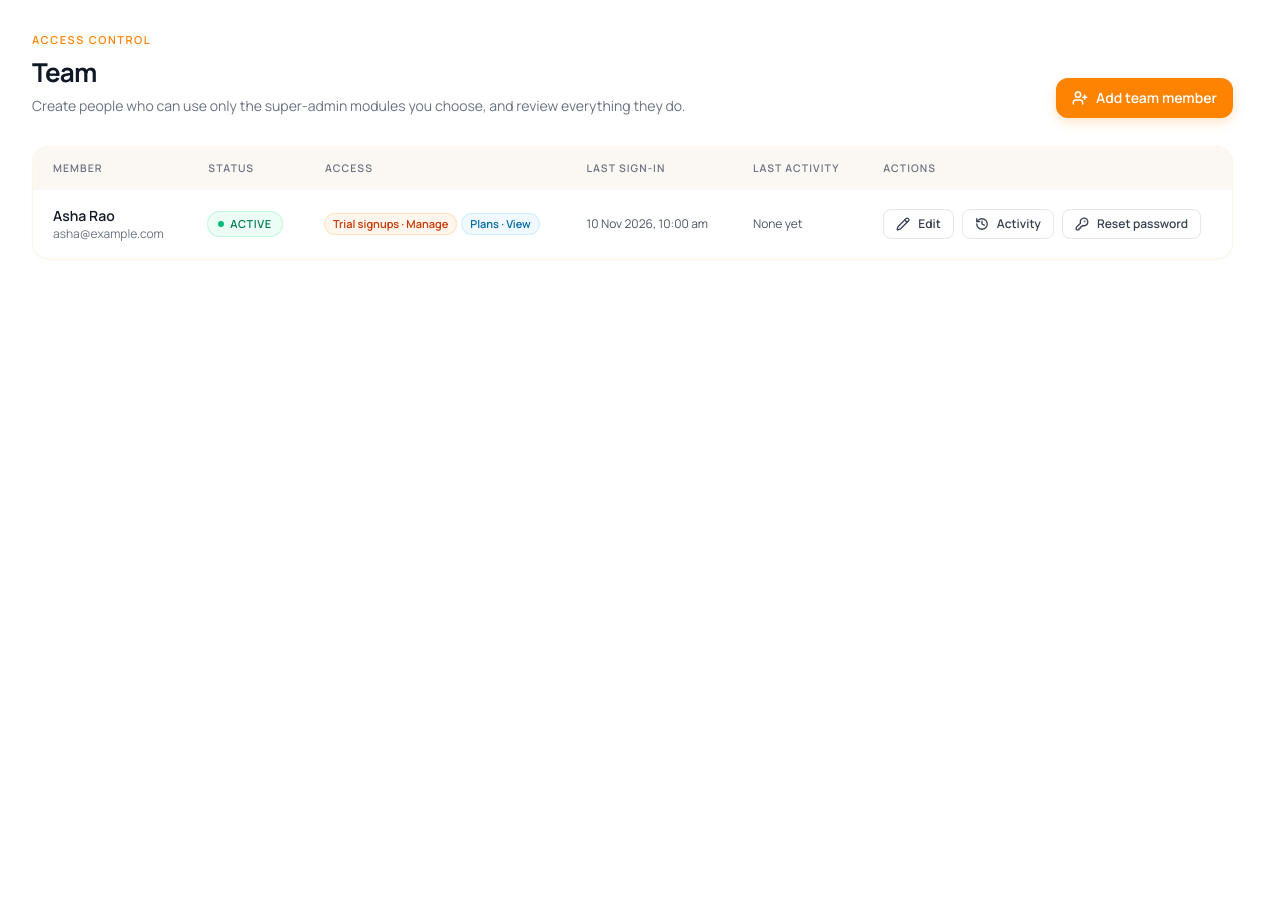
Activity drawer › describes rows, highlights denied attempts and expands details
The width and height of the screenshot is (1280, 900).
Click the button with aria-label "Activity for Asha Rao". click: click(1008, 224)
box: [962,209,1054,239]
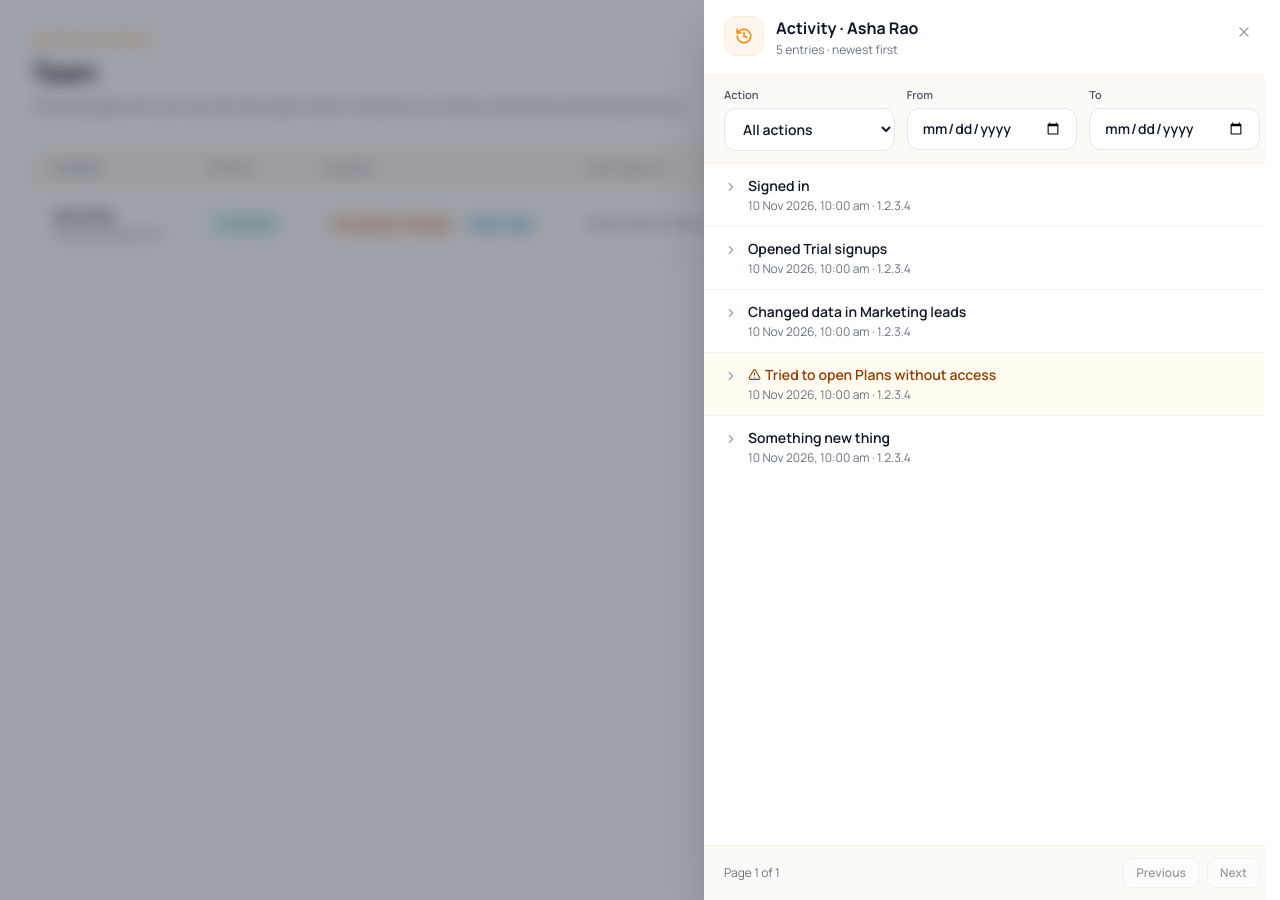
Check: the text "Signed in" is shown, box [748,176,810,194]
Check: the text "Opened Trial signups" is shown, box [748,238,887,258]
Check: the text "Changed data in Marketing leads" is shown, box [748,302,966,320]
Click the text "Tried to open Plans without access". click: click(872, 374)
box: [748,364,996,384]
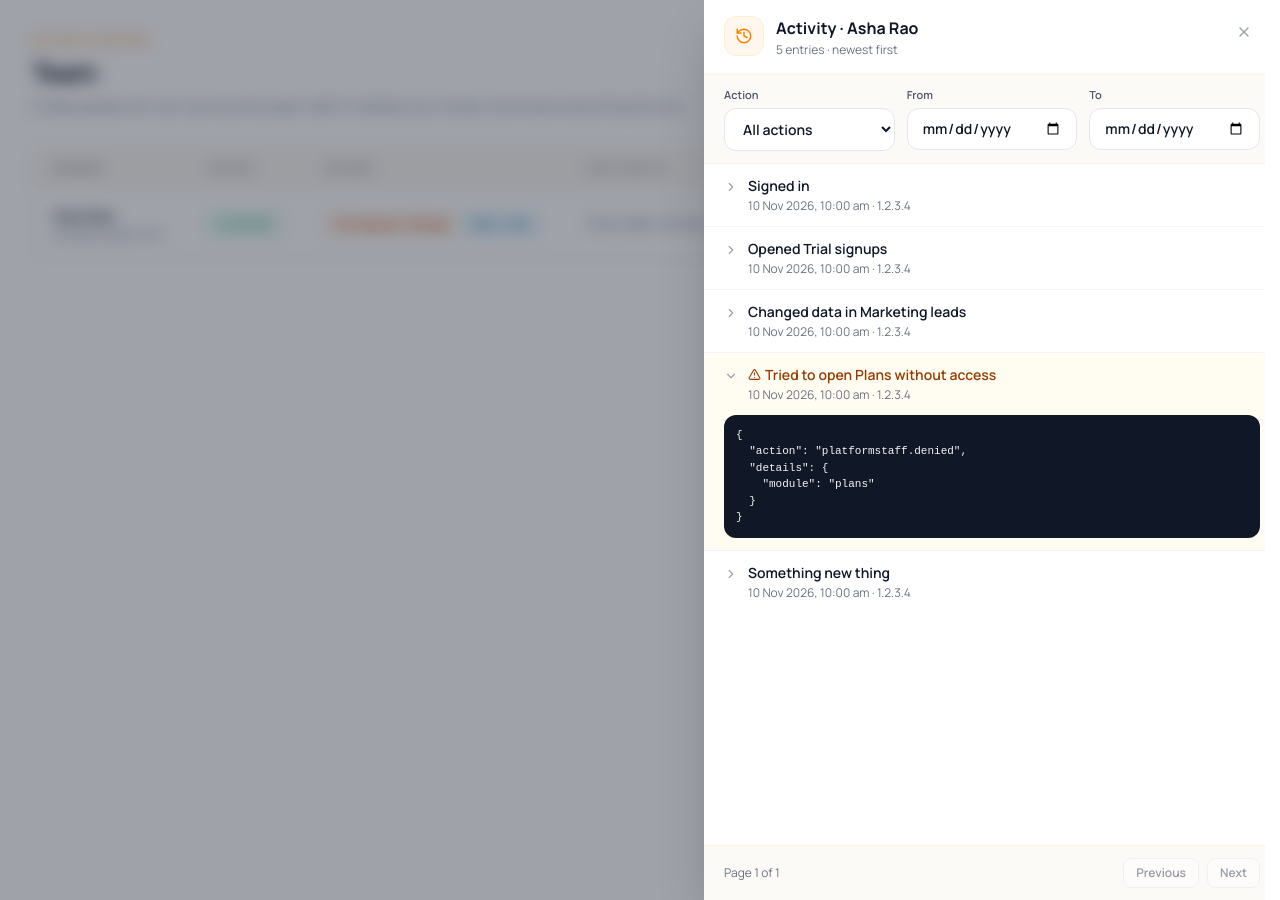
Check: the text "\"module\": \"plans\"" is shown, box [736,428,967,523]
